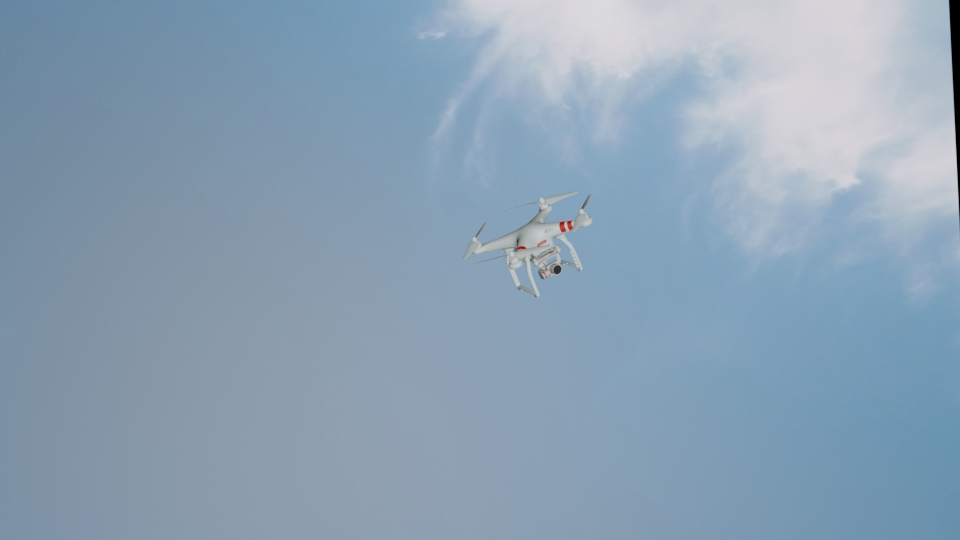drone: (459, 189, 596, 299)
